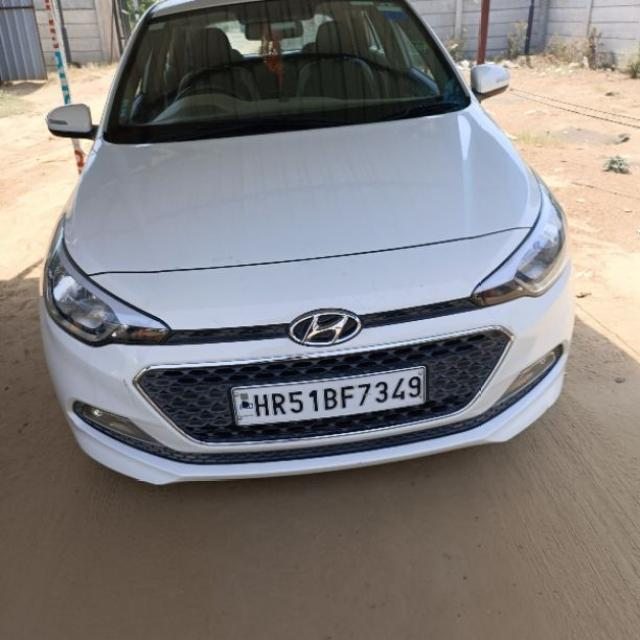license_plate: (229, 364, 428, 427)
